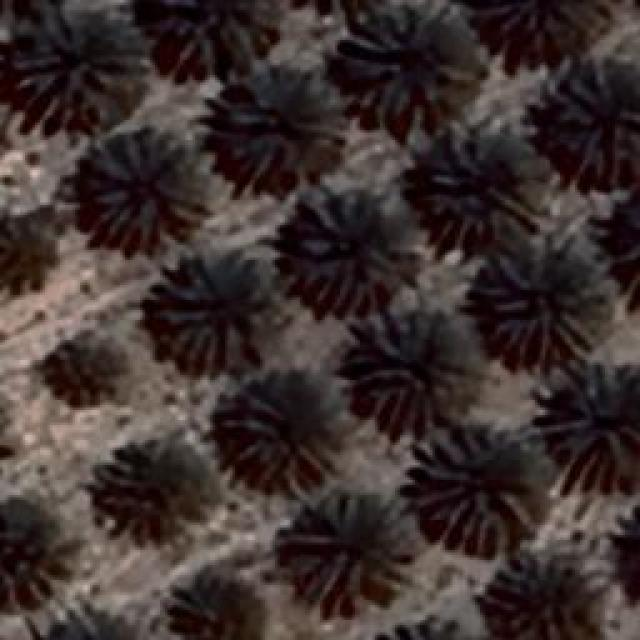PalmTree: (475, 232, 610, 366), (405, 420, 535, 555), (348, 302, 482, 430), (422, 117, 550, 250), (10, 2, 140, 130), (84, 130, 218, 252), (220, 60, 345, 188), (280, 492, 415, 610), (340, 0, 475, 118), (292, 190, 410, 312), (220, 390, 345, 495), (150, 255, 265, 368), (540, 360, 635, 492), (552, 60, 638, 185), (102, 444, 216, 538), (480, 544, 590, 638), (468, 0, 602, 68), (154, 0, 272, 68), (170, 570, 282, 640), (587, 190, 640, 323), (0, 496, 55, 616), (0, 216, 67, 294), (603, 499, 640, 614), (28, 605, 144, 640), (370, 605, 486, 640), (47, 338, 115, 396)
